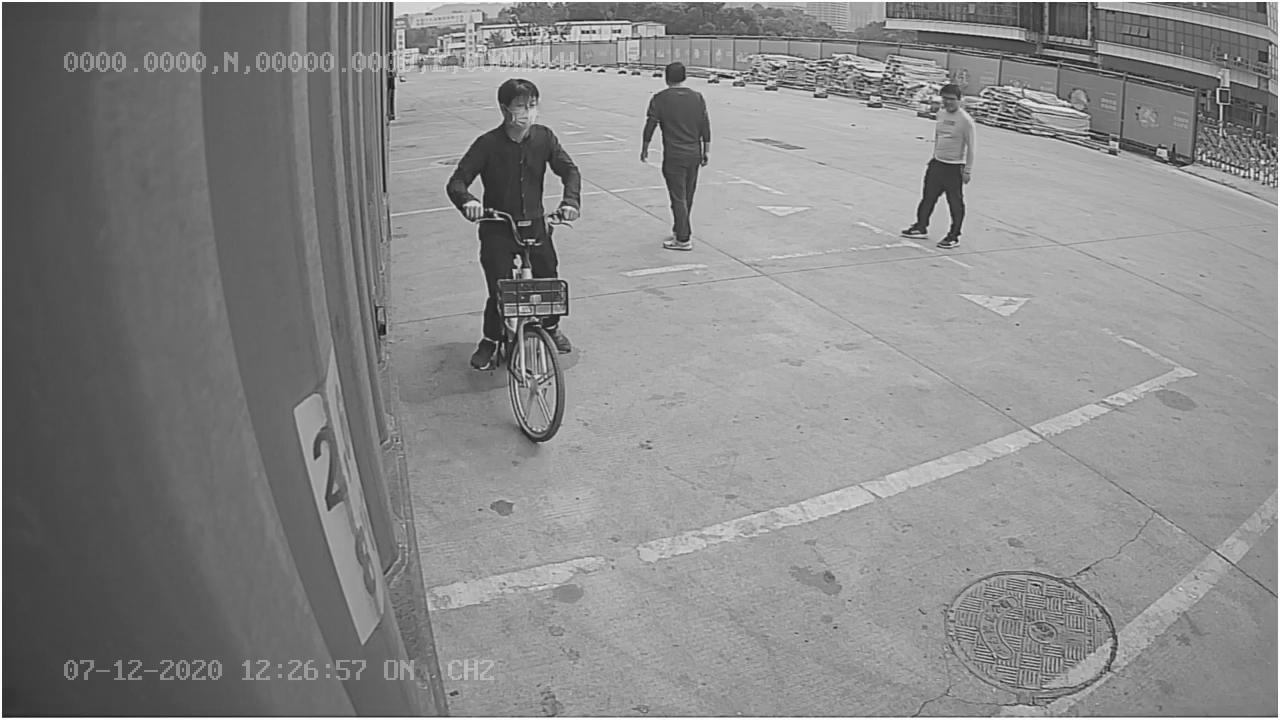person: (631, 58, 716, 252)
